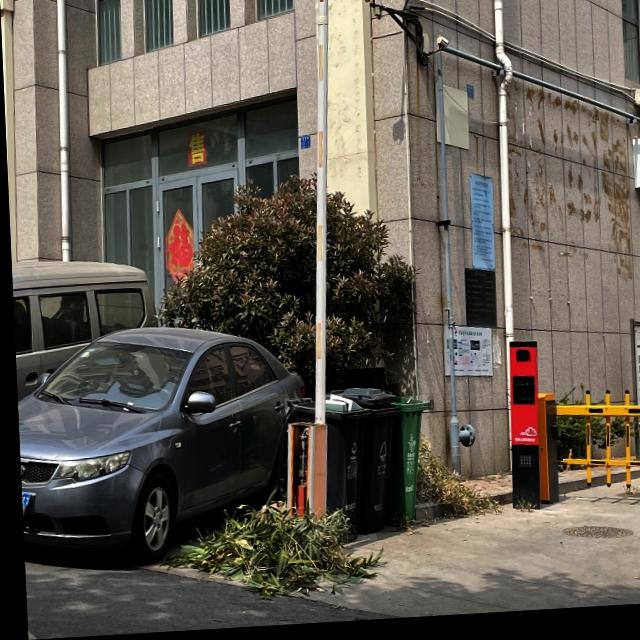garbage_bin: (376, 400, 429, 528)
overflow: (281, 398, 371, 548), (338, 388, 401, 539)
